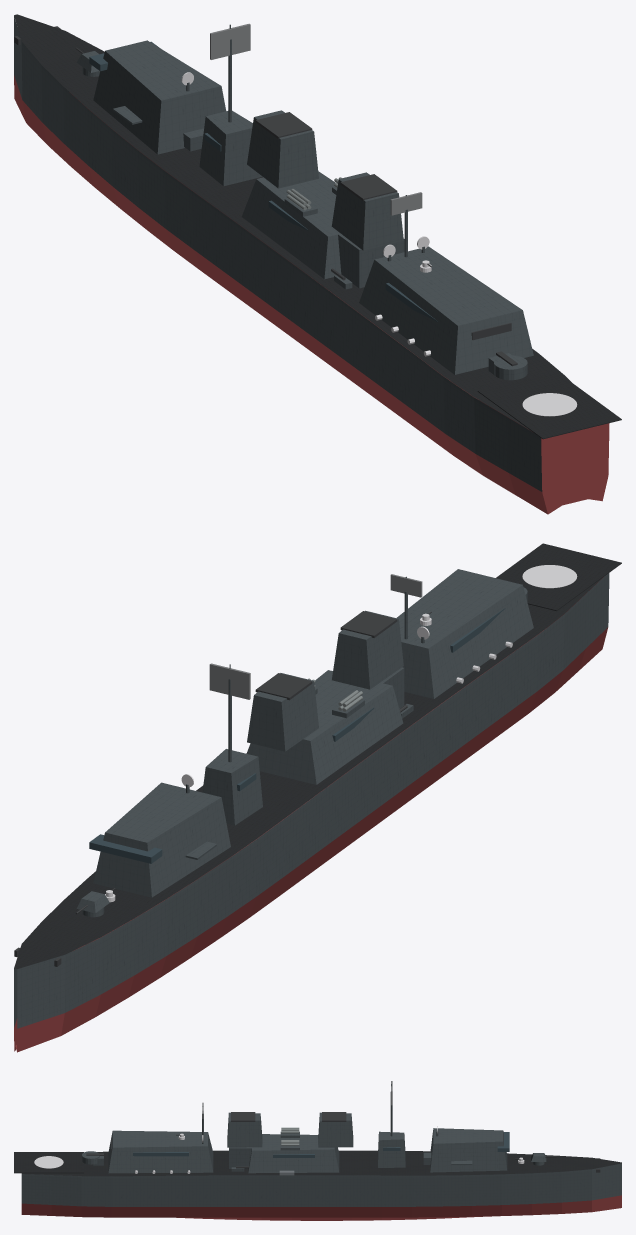
Rendered from type_kidd.glb.
3 renders of one model, top to bottom at view 1: azimuth 30°, elevation 25°; view 2: azimuth 150°, elevation 25°; view 3: azimuth 270°, elevation 25°, orthographic. The views are drawn at different scales.
Visible parts, largest first — view 1: kidd_hull; view 2: kidd_hull; view 3: kidd_hull.
Boxes of the visible parts, x1,y1,x2,y2 form: kidd_hull: (14,14,621,514); kidd_hull: (14,543,621,1052); kidd_hull: (14,1081,621,1220).
Size of the model in its own units: 16.85 by 41.69 by 174.
3 materials, 3 textured.
